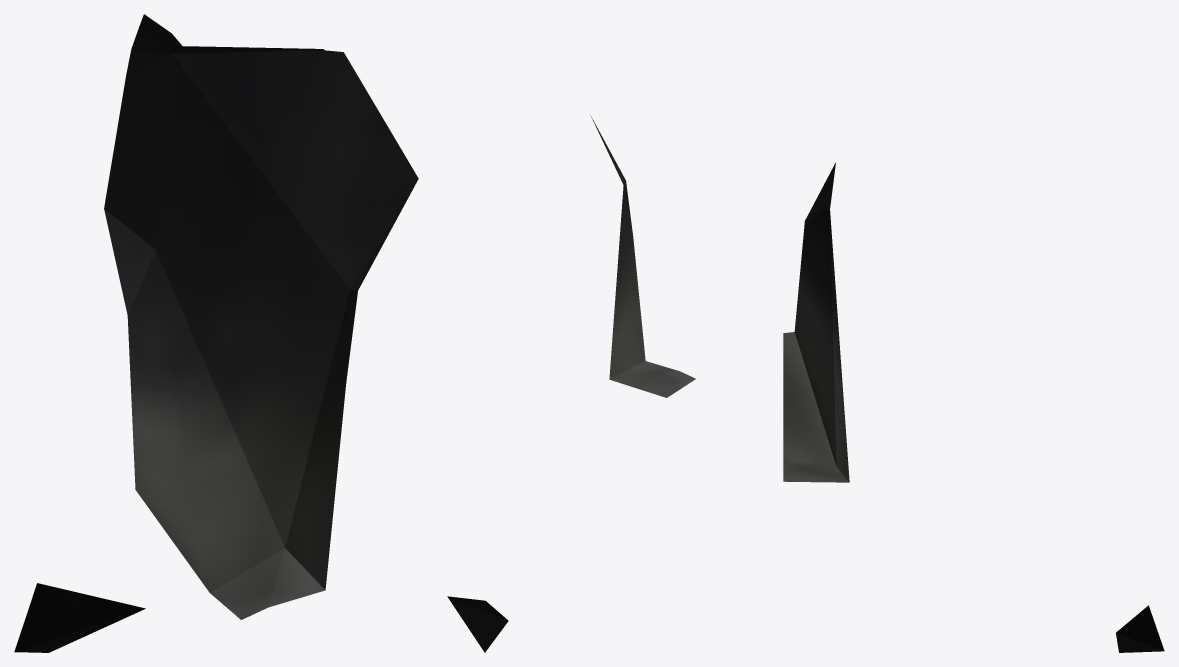
3 views of the same model, side by side, from view 1: azimuth 30°, elevation 25°; view 2: azimuth 150°, elevation 25°; view 3: azimuth 270°, elevation 25° (orthographic). The views are drawn at different scales.
Bounding box in the file's own units: 0.0879 × 0.2716 × 0.1602.
1 material, 1 textured.
